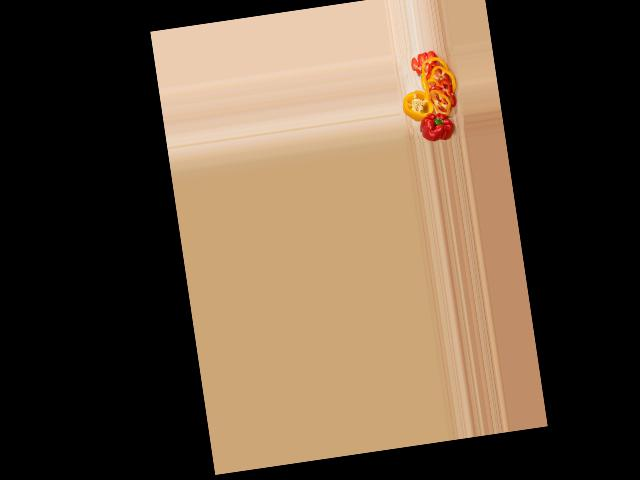bell_pepper: (399, 87, 434, 122)
